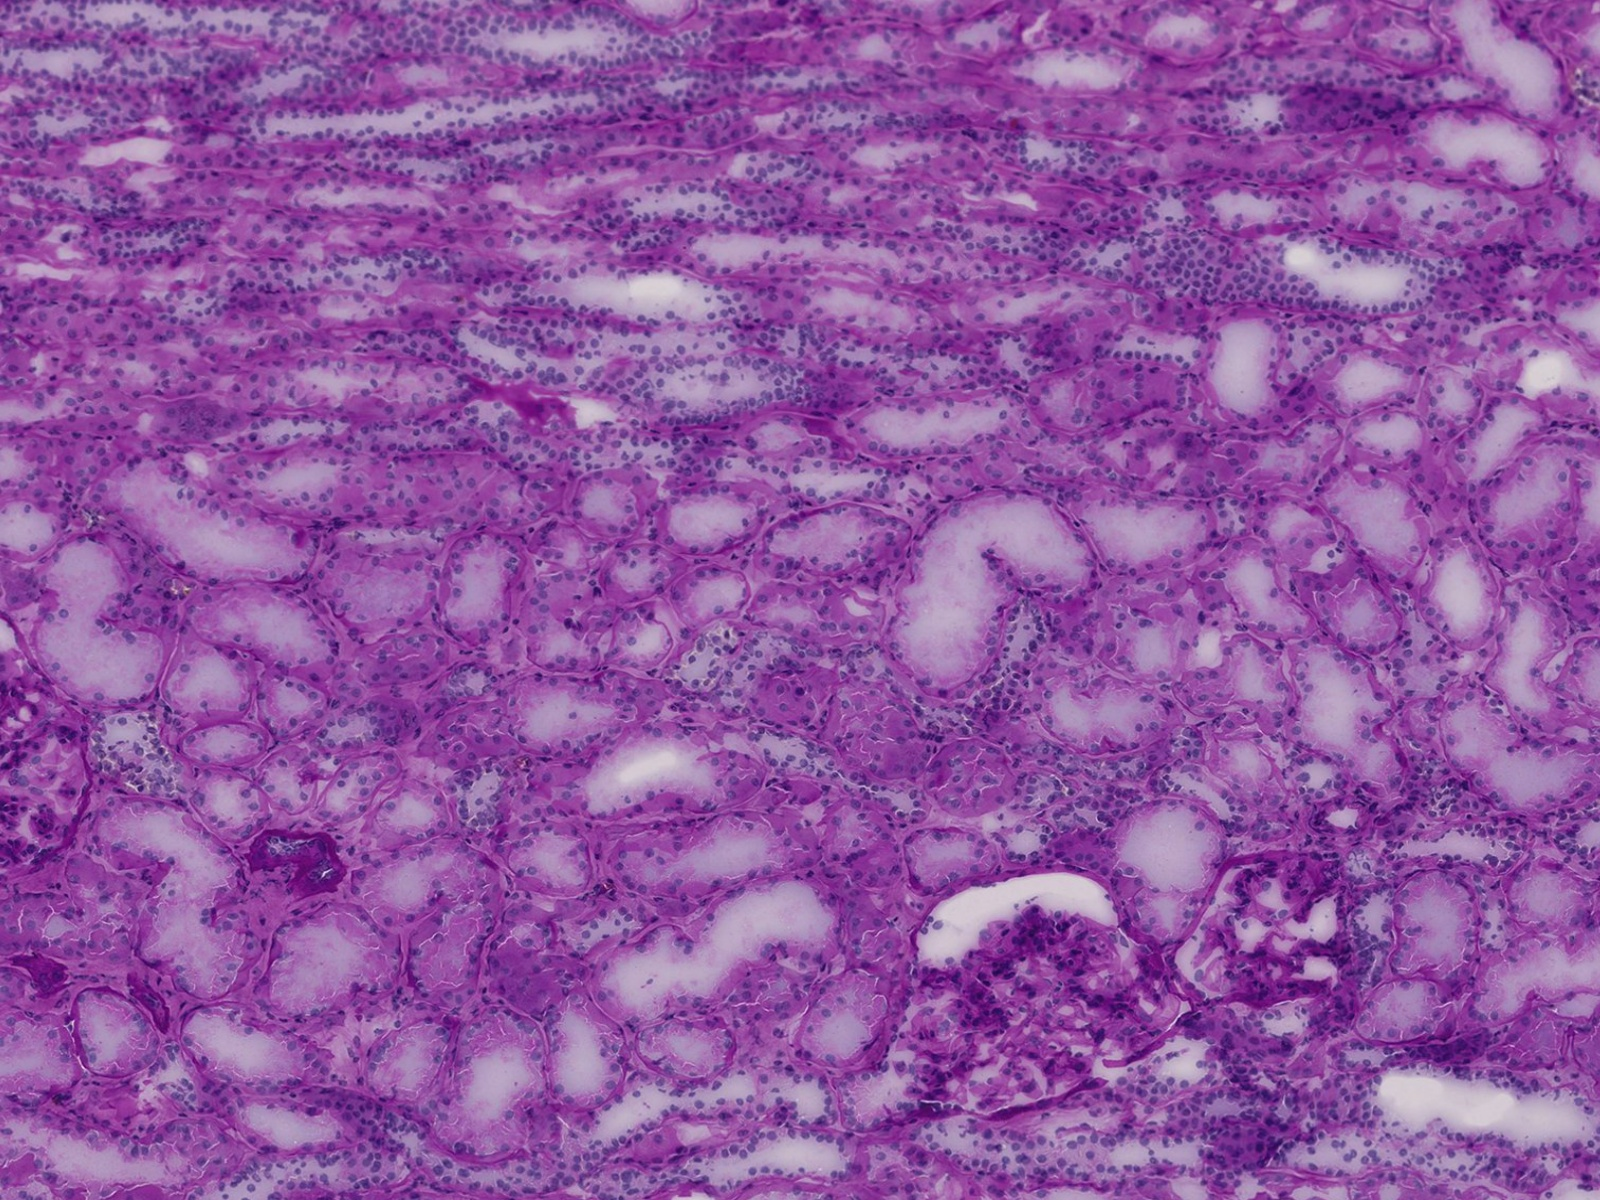Glomeruli: (886, 874, 1168, 1126), (1170, 845, 1364, 1020), (1, 608, 98, 879)
